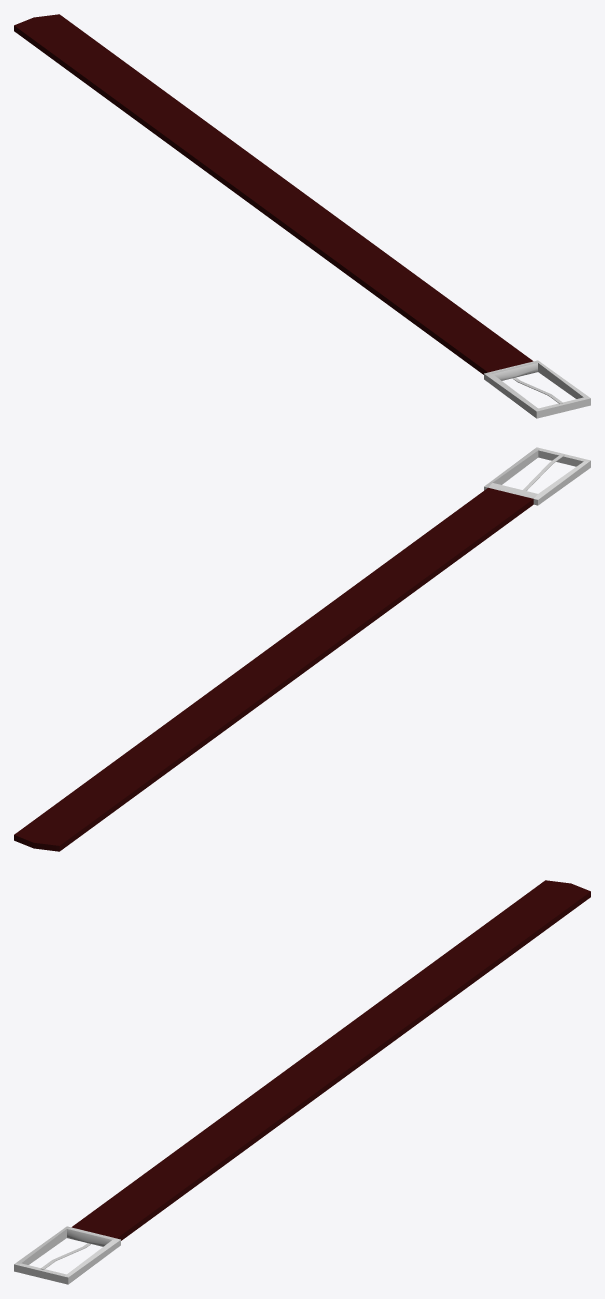
Rendered from CintoB.fbx.
3 views of the same model, one above another, from view 1: azimuth 30°, elevation 25°; view 2: azimuth 150°, elevation 25°; view 3: azimuth 330°, elevation 25° (orthographic).
Visible parts, largest first — view 1: Cinto_B; view 2: Cinto_B; view 3: Cinto_B.
Part boxes in pixels (x1,y1,x2,y2): Cinto_B: (14,14,590,418); Cinto_B: (14,447,590,851); Cinto_B: (14,880,590,1284).
Size of the model in its own units: 4.52 by 0.7965 by 76.42.
